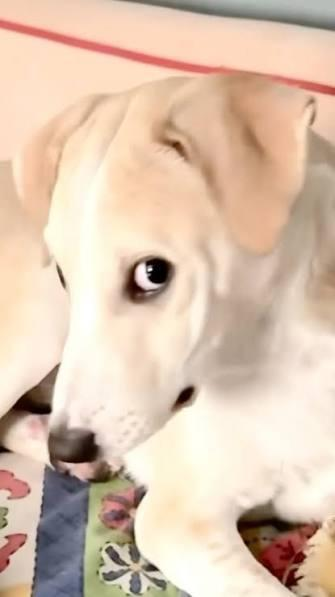puppy-dog: (14, 72, 335, 597)
